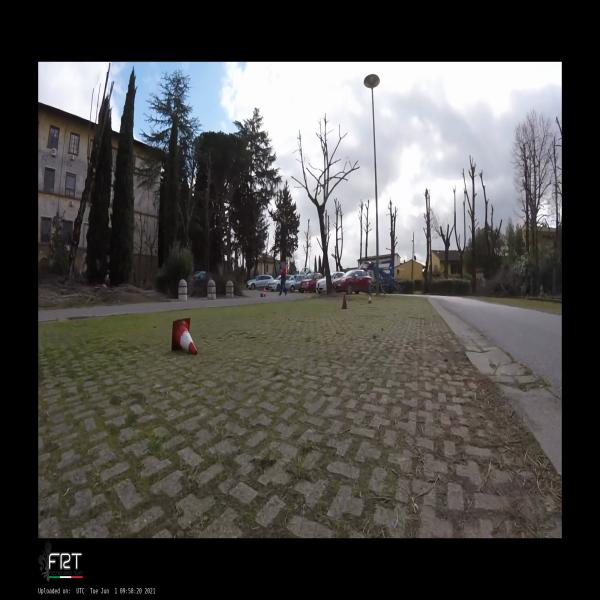large_orange_cone: (264, 287, 266, 297)
orange_cone: (172, 318, 198, 355), (367, 292, 373, 304)
unknown_cone: (341, 294, 348, 309)
